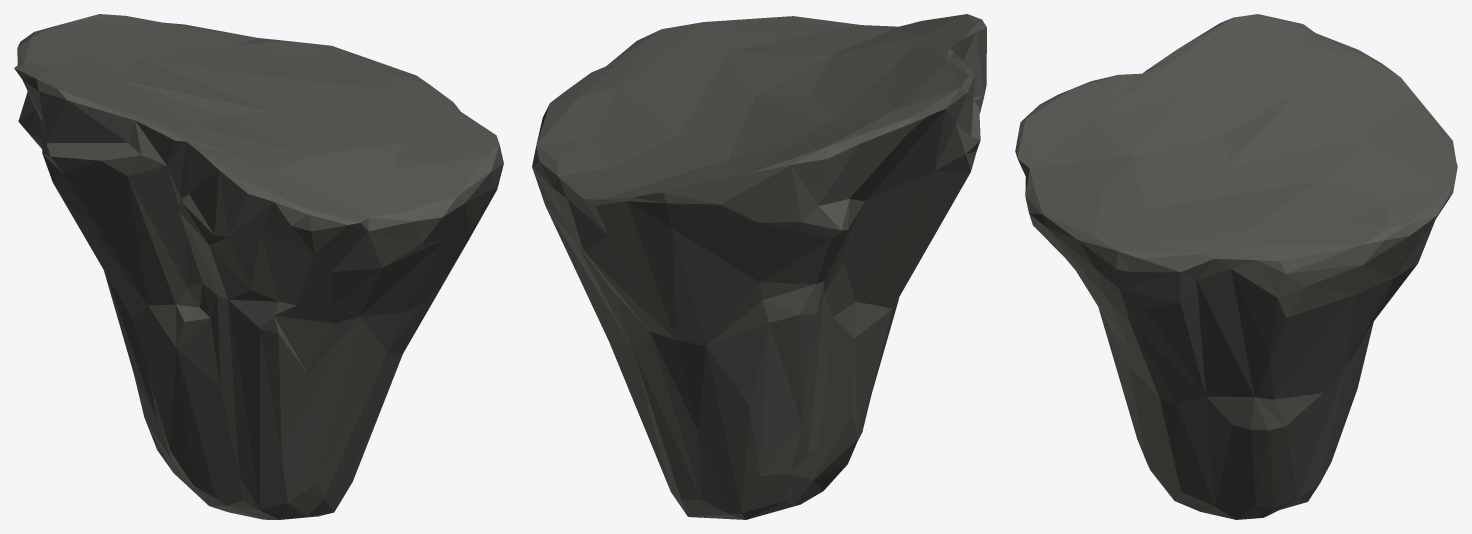
File: SM_Env_Rock_Cliff_04.fbx
The picture shows the model from 3 angles, left to right: view 1: azimuth 30°, elevation 25°; view 2: azimuth 150°, elevation 25°; view 3: azimuth 270°, elevation 25°; orthographic projection. The views are drawn at different scales.
Parts seen in each view (by area): view 1: SM_Env_Rock_Cliff_04; view 2: SM_Env_Rock_Cliff_04; view 3: SM_Env_Rock_Cliff_04.
Boxes of the visible parts, box(x1,y1,x2,y2) form: SM_Env_Rock_Cliff_04: box(14, 14, 503, 519); SM_Env_Rock_Cliff_04: box(532, 14, 986, 519); SM_Env_Rock_Cliff_04: box(1015, 14, 1457, 519).
Bounding box in the file's own units: 1182 × 1340 × 1345.
Materials: 1 (1 with a texture image).
